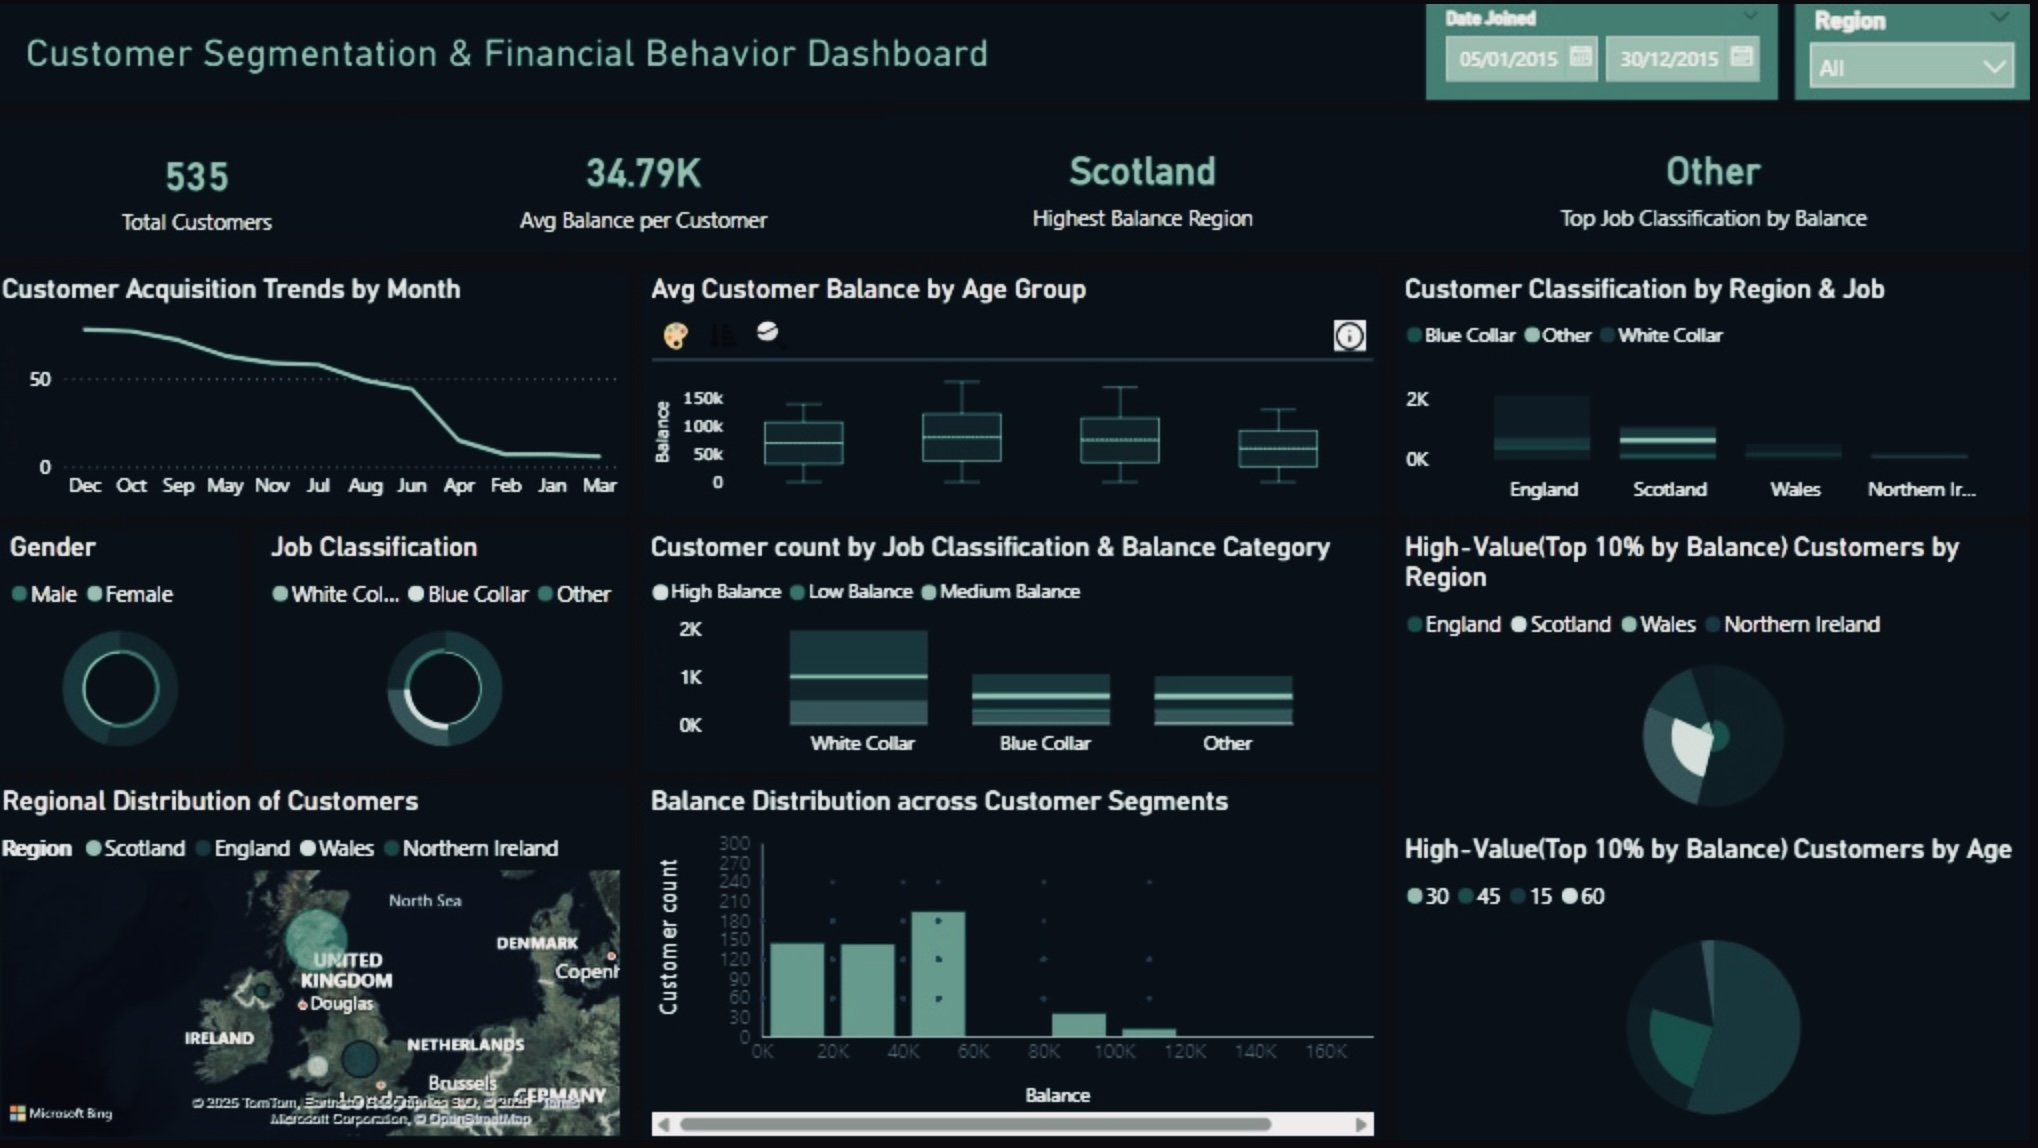

This screenshot's page, from the dashboard's own definition file:
{"tool":"powerbi","page":{"name":"Dashboard","canvas":[1280,720],"ordinal":6},"visuals":[{"type":"textbox","title":"Customer Segmentation & Financial Behavior Dashboard","box":[0,0,1280,64],"z":0},{"type":"card","fields":{"Values":["S05-CreatingInteractiveBIReport UK-Bank-Customers.Total Customers"]},"box":[0,76,254,86],"z":1000},{"type":"card","fields":{"Values":["S05-CreatingInteractiveBIReport UK-Bank-Customers.Avg Balance per Customer"]},"box":[254,74,308,86],"z":2000},{"type":"card","fields":{"Values":["S05-CreatingInteractiveBIReport UK-Bank-Customers.Highest Balance Region"]},"box":[562,72,320,88],"z":3000},{"type":"card","fields":{"Values":["S05-CreatingInteractiveBIReport UK-Bank-Customers.Top Job Classification by Balance"]},"box":[882,72,398,88],"z":4000},{"type":"donutChart","title":"Job Classification","fields":{"Category":["S05-CreatingInteractiveBIReport UK-Bank-Customers.Job Classification"],"Y":["CountNonNull(S05-CreatingInteractiveBIReport UK-Bank-Customers.Customer ID)"]},"box":[164,334,234,150],"z":5000},{"type":"donutChart","title":"Gender","fields":{"Category":["S05-CreatingInteractiveBIReport UK-Bank-Customers.Gender"],"Y":["CountNonNull(S05-CreatingInteractiveBIReport UK-Bank-Customers.Customer ID)"]},"box":[0,334,154,150],"z":6000},{"type":"map","title":"Regional Distribution of Customers","fields":{"Category":["S05-CreatingInteractiveBIReport UK-Bank-Customers.Region"],"Size":["S05-CreatingInteractiveBIReport UK-Bank-Customers.Total Customers"],"Series":["S05-CreatingInteractiveBIReport UK-Bank-Customers.Region"]},"box":[0,494,398,226],"z":7000},{"type":"boxandwhiskerwithpoints3B3DF5C11B683E5DB4E630DD7899B035","title":"Avg Customer Balance by Age Group","fields":{"col_0":["S05-CreatingInteractiveBIReport UK-Bank-Customers.Age (bins)"],"col_2":["S05-CreatingInteractiveBIReport UK-Bank-Customers.Balance (bins)"]},"box":[408,172,464,152],"z":8000},{"type":"histogramXY6E3D5691159E41859A007A262D4B0E9E","title":"Balance Distribution across Customer Segments","fields":{"yAxis":["S05-CreatingInteractiveBIReport UK-Bank-Customers.Customer ID"],"xAxis":["S05-CreatingInteractiveBIReport UK-Bank-Customers.Balance (bins)"]},"box":[408,494,464,226],"z":9000},{"type":"columnChart","title":"Customer count by Job Classification & Balance Category","fields":{"Category":["S05-CreatingInteractiveBIReport UK-Bank-Customers.Job Classification"],"Series":["S05-CreatingInteractiveBIReport UK-Bank-Customers.BalanceCategory"],"Y":["CountNonNull(S05-CreatingInteractiveBIReport UK-Bank-Customers.Customer ID)"]},"box":[408,334,464,152],"z":10000},{"type":"columnChart","title":"Customer Classification by Region & Job","fields":{"Category":["S05-CreatingInteractiveBIReport UK-Bank-Customers.Region"],"Y":["CountNonNull(S05-CreatingInteractiveBIReport UK-Bank-Customers.Customer ID)"],"Series":["S05-CreatingInteractiveBIReport UK-Bank-Customers.Job Classification"]},"box":[882,172,398,152],"z":11000},{"type":"pieChart","title":"High-Value(Top 10% by Balance)  Customers by Region","fields":{"Category":["S05-CreatingInteractiveBIReport UK-Bank-Customers.Region"],"Y":["CountNonNull(S05-CreatingInteractiveBIReport UK-Bank-Customers.High-Value Customer)"]},"box":[882,334,398,190],"z":12000},{"type":"pieChart","title":"High-Value(Top 10% by Balance) Customers by Age","fields":{"Category":["S05-CreatingInteractiveBIReport UK-Bank-Customers.Age (bins)"],"Y":["CountNonNull(S05-CreatingInteractiveBIReport UK-Bank-Customers.High-Value Customer)"]},"box":[882,524,398,196],"z":12001},{"type":"lineChart","title":"Customer Acquisition Trends by Month ","fields":{"Category":["S05-CreatingInteractiveBIReport UK-Bank-Customers.Month Joined"],"Y":["CountNonNull(S05-CreatingInteractiveBIReport UK-Bank-Customers.Customer ID)"]},"box":[0,172,398,152],"z":12002},{"type":"slicer","fields":{"Values":["S05-CreatingInteractiveBIReport UK-Bank-Customers.Region"]},"box":[1132,0,148,64],"z":12003},{"type":"slicer","fields":{"Values":["S05-CreatingInteractiveBIReport UK-Bank-Customers.Date Joined"]},"box":[900,0,222,64],"z":12004}]}

Visuals, with their boxes in screenshot pixels (x1, y1, x2, y2), scaled from the page's 1280x720 canvas onto the 2038x1148 screenshot:
"Customer Segmentation & Financial Behavior Dashboard" textbox: x1=0 y1=0 x2=2037 y2=102
card - S05-CreatingInteractiveBIReport UK-Bank-Customers.Total Customers: x1=0 y1=121 x2=404 y2=258
card - S05-CreatingInteractiveBIReport UK-Bank-Customers.Avg Balance per Customer: x1=404 y1=118 x2=895 y2=255
card - S05-CreatingInteractiveBIReport UK-Bank-Customers.Highest Balance Region: x1=895 y1=115 x2=1404 y2=255
card - S05-CreatingInteractiveBIReport UK-Bank-Customers.Top Job Classification by Balance: x1=1404 y1=115 x2=2037 y2=255
"Job Classification" donutChart: x1=261 y1=533 x2=634 y2=772
"Gender" donutChart: x1=0 y1=533 x2=245 y2=772
"Regional Distribution of Customers" map: x1=0 y1=788 x2=634 y2=1147
"Avg Customer Balance by Age Group" boxandwhiskerwithpoints3B3DF5C11B683E5DB4E630DD7899B035: x1=650 y1=274 x2=1388 y2=517
"Balance Distribution across Customer Segments" histogramXY6E3D5691159E41859A007A262D4B0E9E: x1=650 y1=788 x2=1388 y2=1147
"Customer count by Job Classification & Balance Category" columnChart: x1=650 y1=533 x2=1388 y2=775
"Customer Classification by Region & Job" columnChart: x1=1404 y1=274 x2=2037 y2=517
"High-Value(Top 10% by Balance)  Customers by Region" pieChart: x1=1404 y1=533 x2=2037 y2=835
"High-Value(Top 10% by Balance) Customers by Age" pieChart: x1=1404 y1=835 x2=2037 y2=1147
"Customer Acquisition Trends by Month " lineChart: x1=0 y1=274 x2=634 y2=517
slicer - S05-CreatingInteractiveBIReport UK-Bank-Customers.Region: x1=1802 y1=0 x2=2037 y2=102
slicer - S05-CreatingInteractiveBIReport UK-Bank-Customers.Date Joined: x1=1433 y1=0 x2=1786 y2=102
